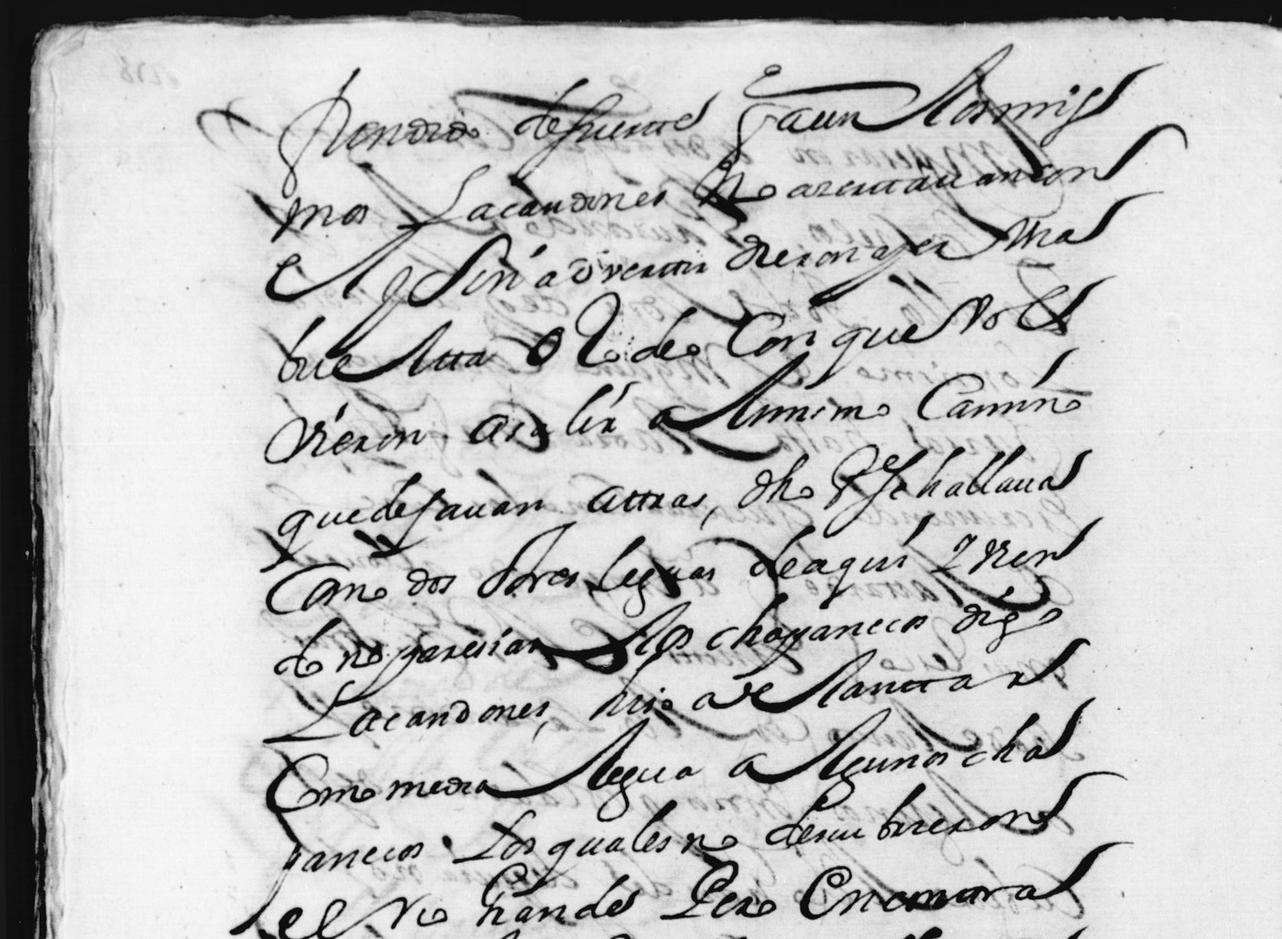lacandon: (262, 680, 549, 744), (396, 164, 667, 229)
